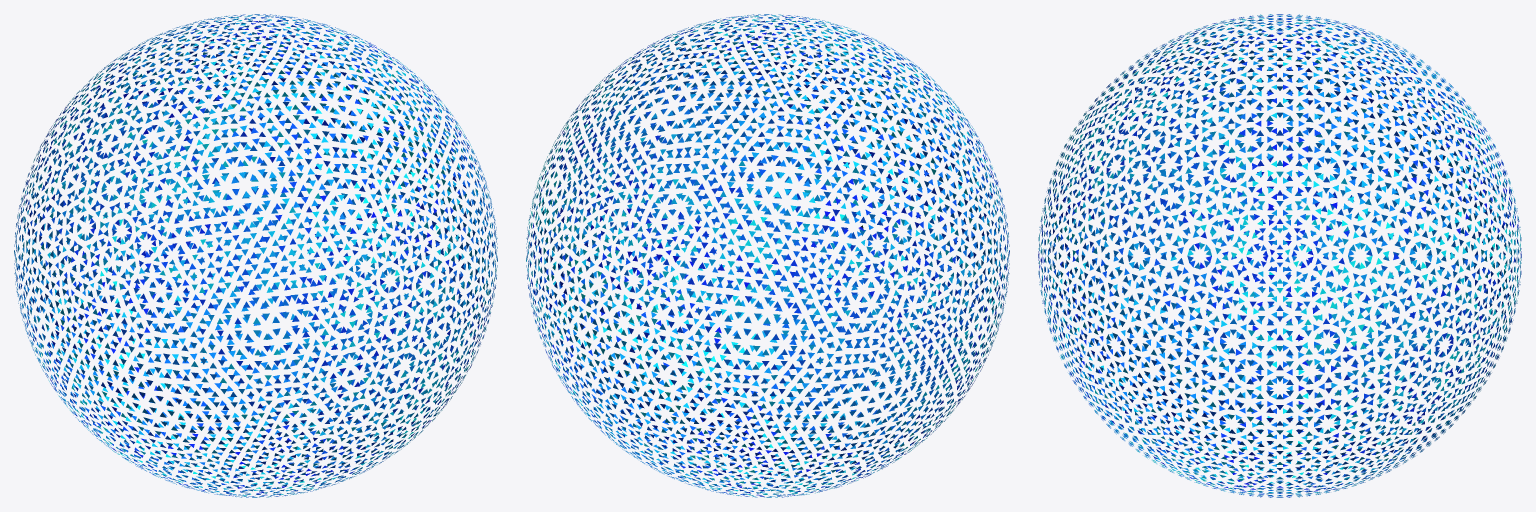
File: BF_Reactor_Shield3.obj
3 renders of one model, left to right at view 1: azimuth 30°, elevation 25°; view 2: azimuth 150°, elevation 25°; view 3: azimuth 270°, elevation 25°, orthographic.
Parts seen in each view (by area): view 1: Icosphere_Icosphere.001; view 2: Icosphere_Icosphere.001; view 3: Icosphere_Icosphere.001.
Boxes of the visible parts, x1,y1,x2,y2 form: Icosphere_Icosphere.001: (14, 14, 497, 497); Icosphere_Icosphere.001: (526, 14, 1009, 497); Icosphere_Icosphere.001: (1038, 14, 1521, 497).
Bounding box in the file's own units: 4.98 × 4.98 × 4.98.
